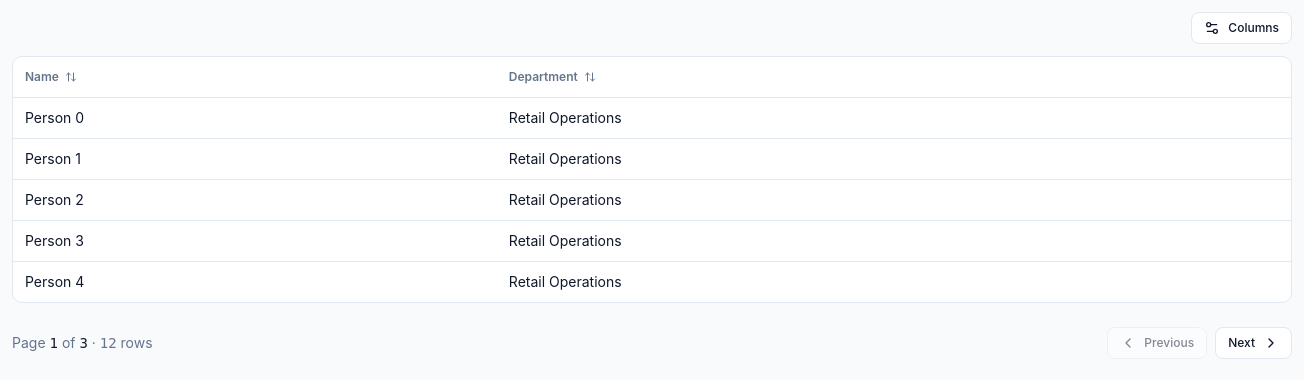
DataTable › paginates once the data exceeds a page
Expected: the text "Person 0" is shown, [13, 97, 497, 138]
Expected: the text "Person 5" is not shown
Click the button "Next". click: x=1254, y=342
box: [1215, 326, 1292, 358]
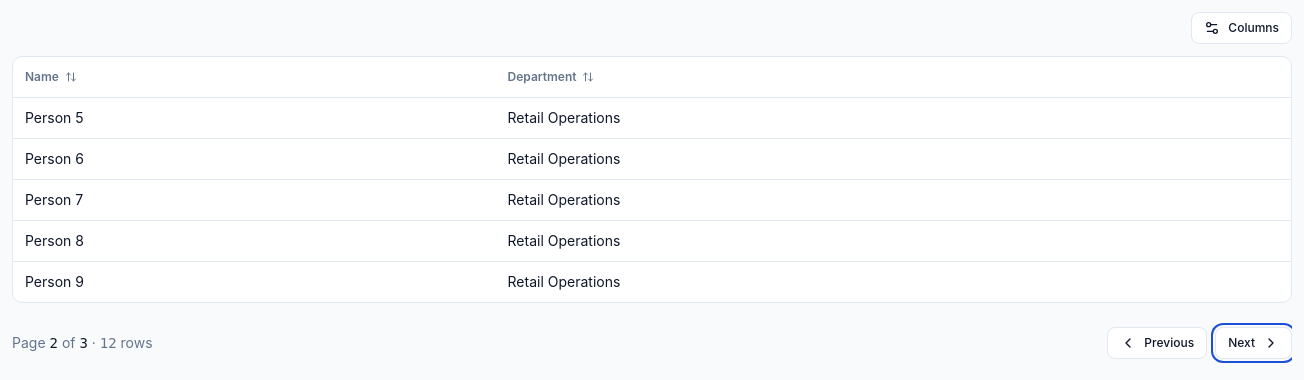
Expected: the text "Person 5" is shown, [13, 97, 496, 138]
Expected: the text "Person 0" is gone
